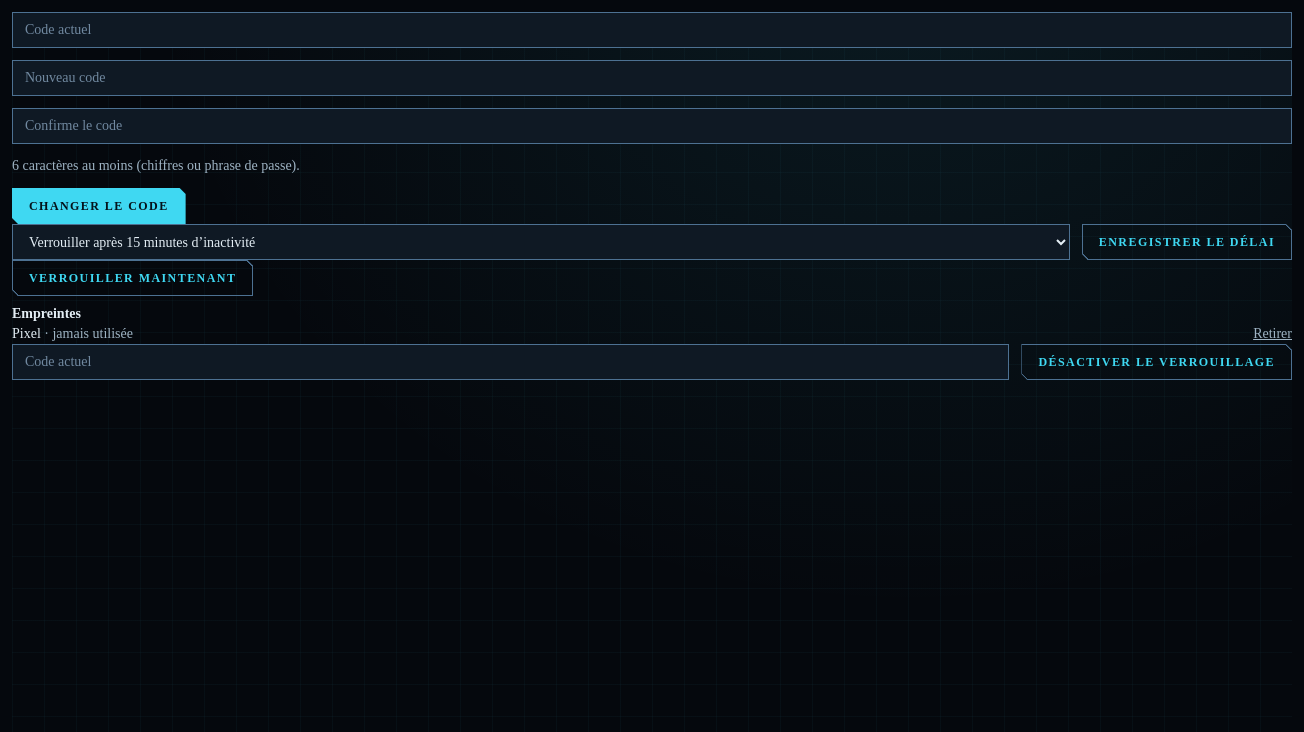
LockForms : actions › retirer une empreinte envoie son id et affiche le statut
Click the button "Retirer": [1273, 334] box [1253,324,1292,344]
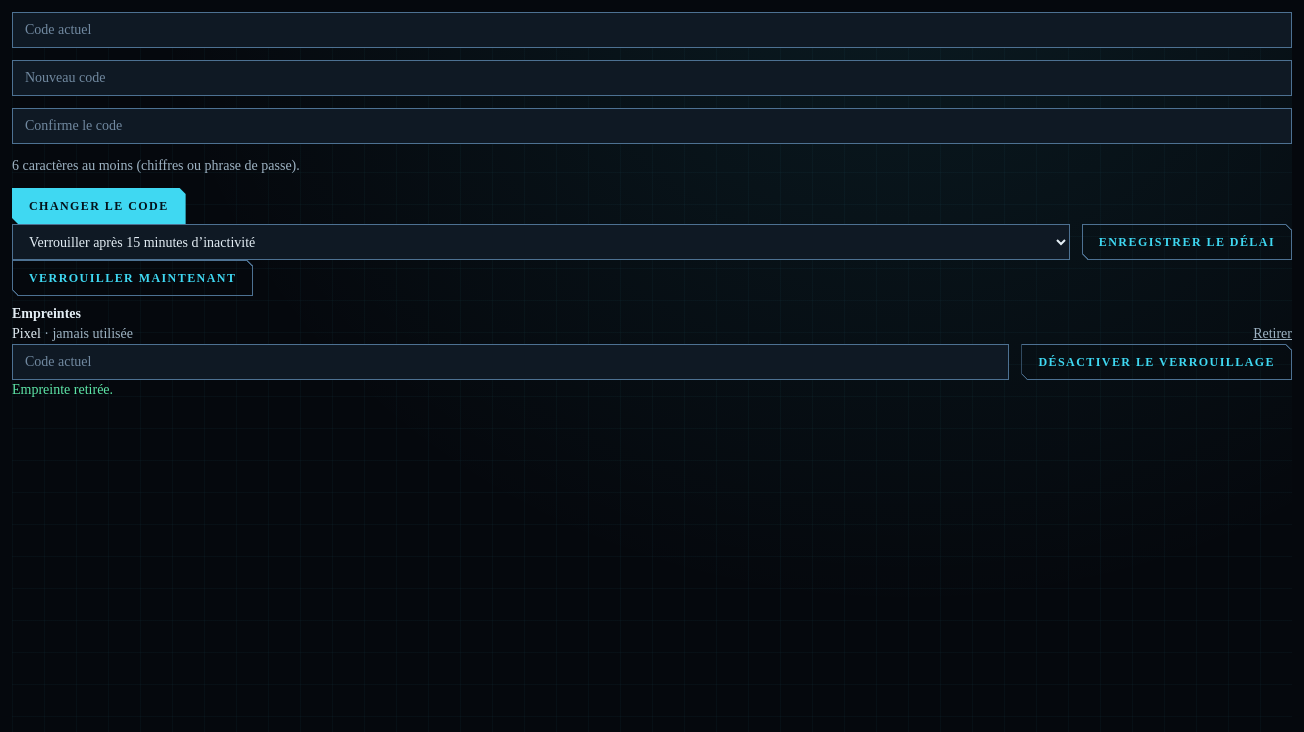
Expected: the message reads "Empreinte retirée.", [12,382,113,397]
